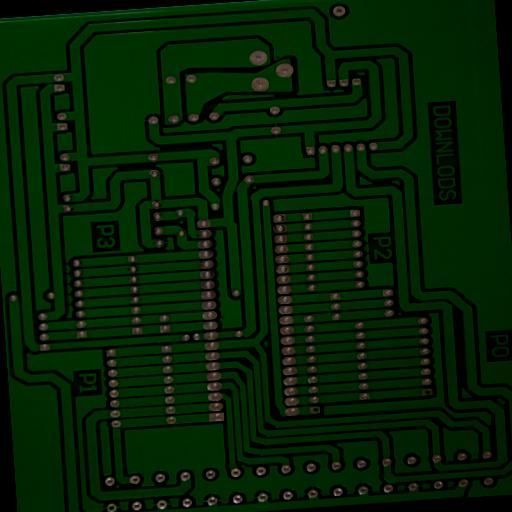missing_hole: (104, 499, 119, 512), (422, 385, 436, 396), (310, 403, 322, 414)
